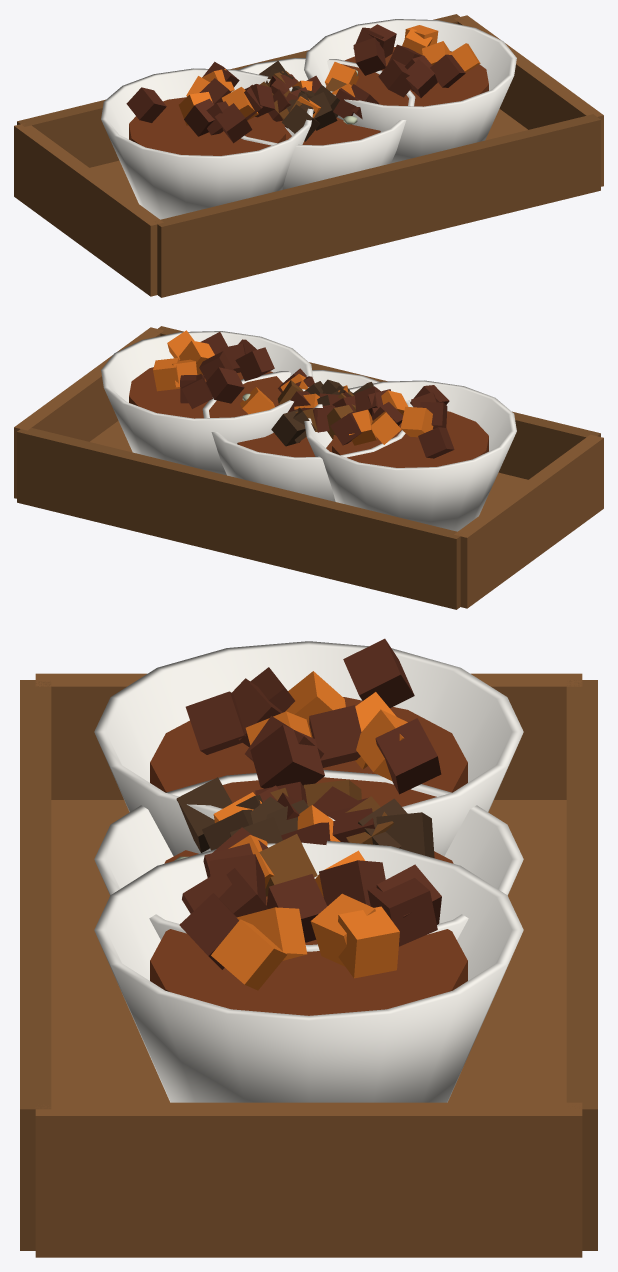
The model's file is Stew_Meat.fbx.
The picture shows the model from 3 angles, top to bottom: view 1: azimuth 30°, elevation 25°; view 2: azimuth 150°, elevation 25°; view 3: azimuth 270°, elevation 25°; orthographic projection. The views are drawn at different scales.
Visible parts, largest first — view 1: Stew_Meat__Stack, Stew_Meat, Stew_Meat__Rotten; view 2: Stew_Meat__Stack, Stew_Meat, Stew_Meat__Rotten; view 3: Stew_Meat__Stack, Stew_Meat, Stew_Meat__Rotten.
Boxes of the visible parts, left/top/right/bottom form: Stew_Meat__Stack: left=14, top=14, right=603, bottom=297; Stew_Meat: left=238, top=58, right=415, bottom=189; Stew_Meat__Rotten: left=259, top=61, right=357, bottom=141; Stew_Meat__Stack: left=14, top=326, right=603, bottom=609; Stew_Meat: left=202, top=368, right=412, bottom=501; Stew_Meat__Rotten: left=242, top=379, right=373, bottom=446; Stew_Meat__Stack: left=20, top=638, right=597, bottom=1257; Stew_Meat: left=94, top=769, right=523, bottom=951; Stew_Meat__Rotten: left=174, top=777, right=434, bottom=896.
Size of the model in its own units: 0.268 by 0.0717 by 0.148.
